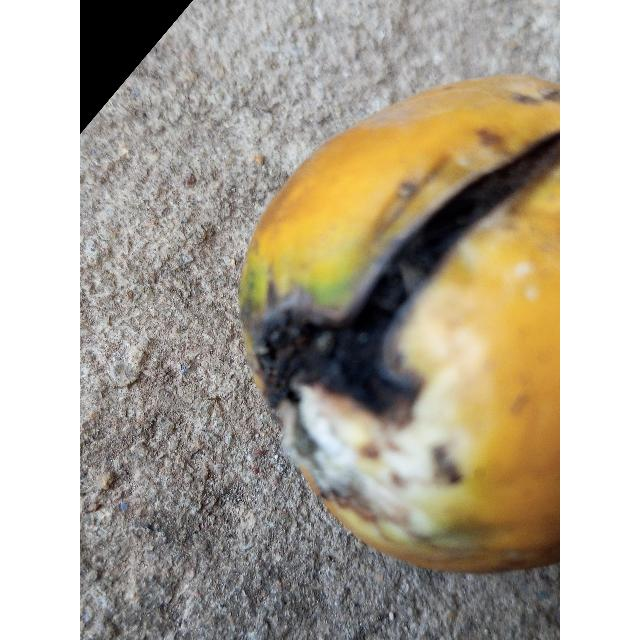damaged: (238, 75, 560, 578)
